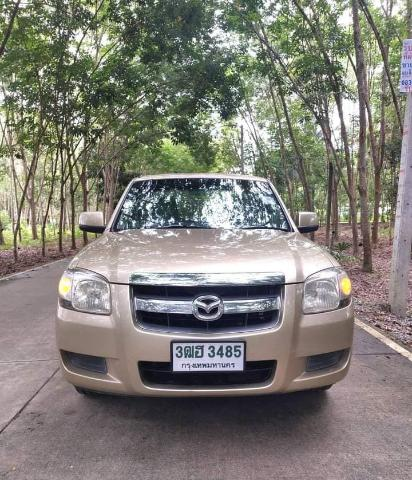pickup-truck: (48, 158, 365, 425)
